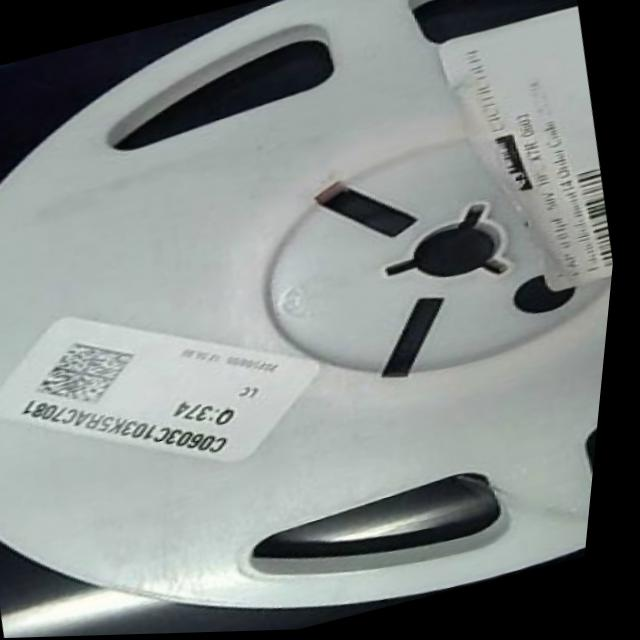datamatrix: (30, 326, 156, 419)
